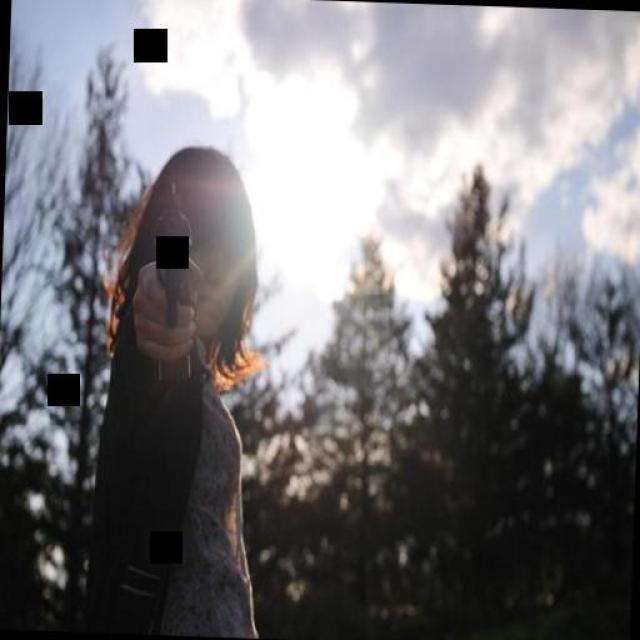gun: (134, 170, 198, 338)
